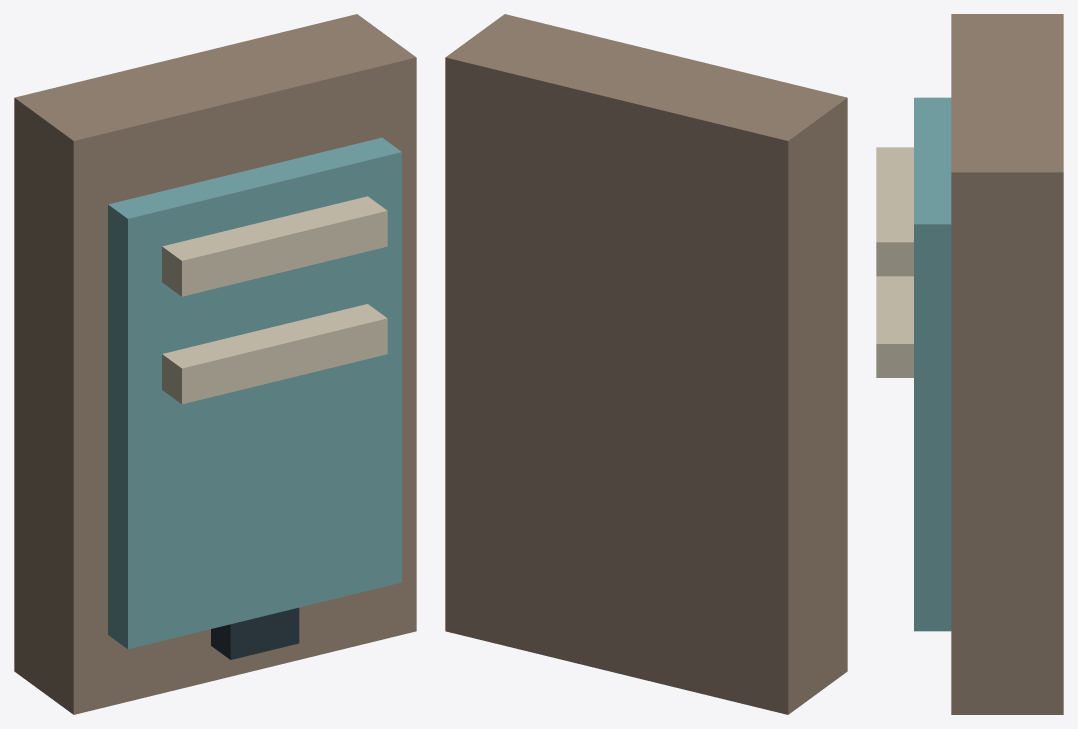
File: legal-12.glb
3 views of the same model, side by side, from view 1: azimuth 30°, elevation 25°; view 2: azimuth 150°, elevation 25°; view 3: azimuth 270°, elevation 25° (orthographic). The views are drawn at different scales.
Parts seen in each view (by area): view 1: Office telephone; view 2: Office telephone; view 3: Office telephone.
Part boxes in pixels (x1=…): Office telephone: x1=14, y1=14, x2=416, y2=714; Office telephone: x1=445, y1=14, x2=847, y2=714; Office telephone: x1=876, y1=14, x2=1063, y2=714.
Bounding box in the file's own units: 0.8 × 1.28 × 0.4.
